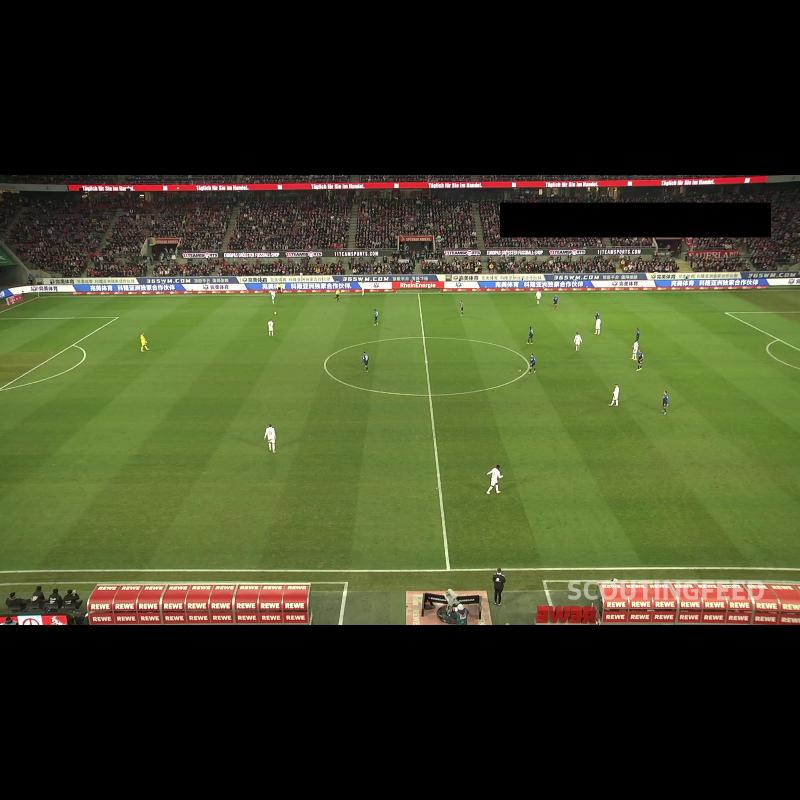pitch: (0, 290, 800, 572)
